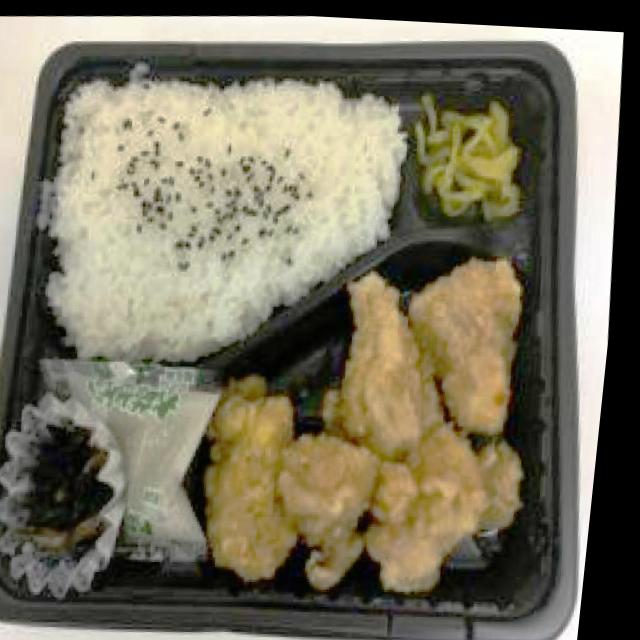chicken_nuggets: (394, 252, 533, 438), (326, 268, 449, 465), (359, 422, 493, 597), (196, 391, 309, 582), (264, 427, 392, 593)
rice: (23, 65, 413, 372)
